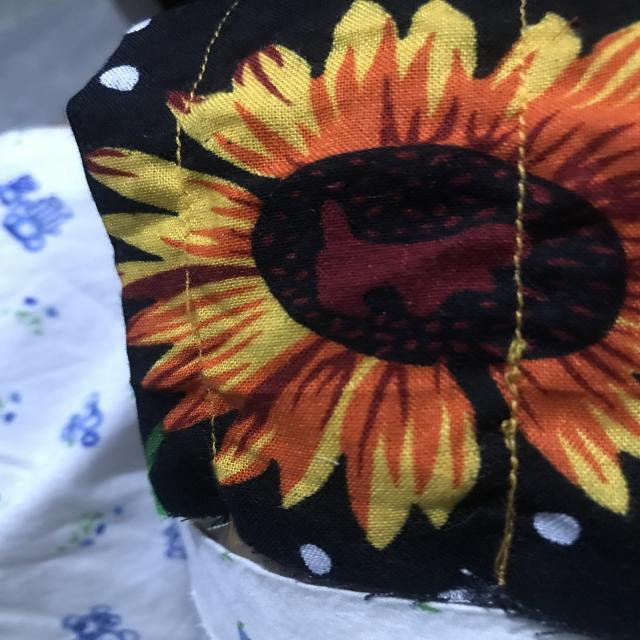good: (505, 190, 538, 286)
skip: (165, 272, 213, 338)
